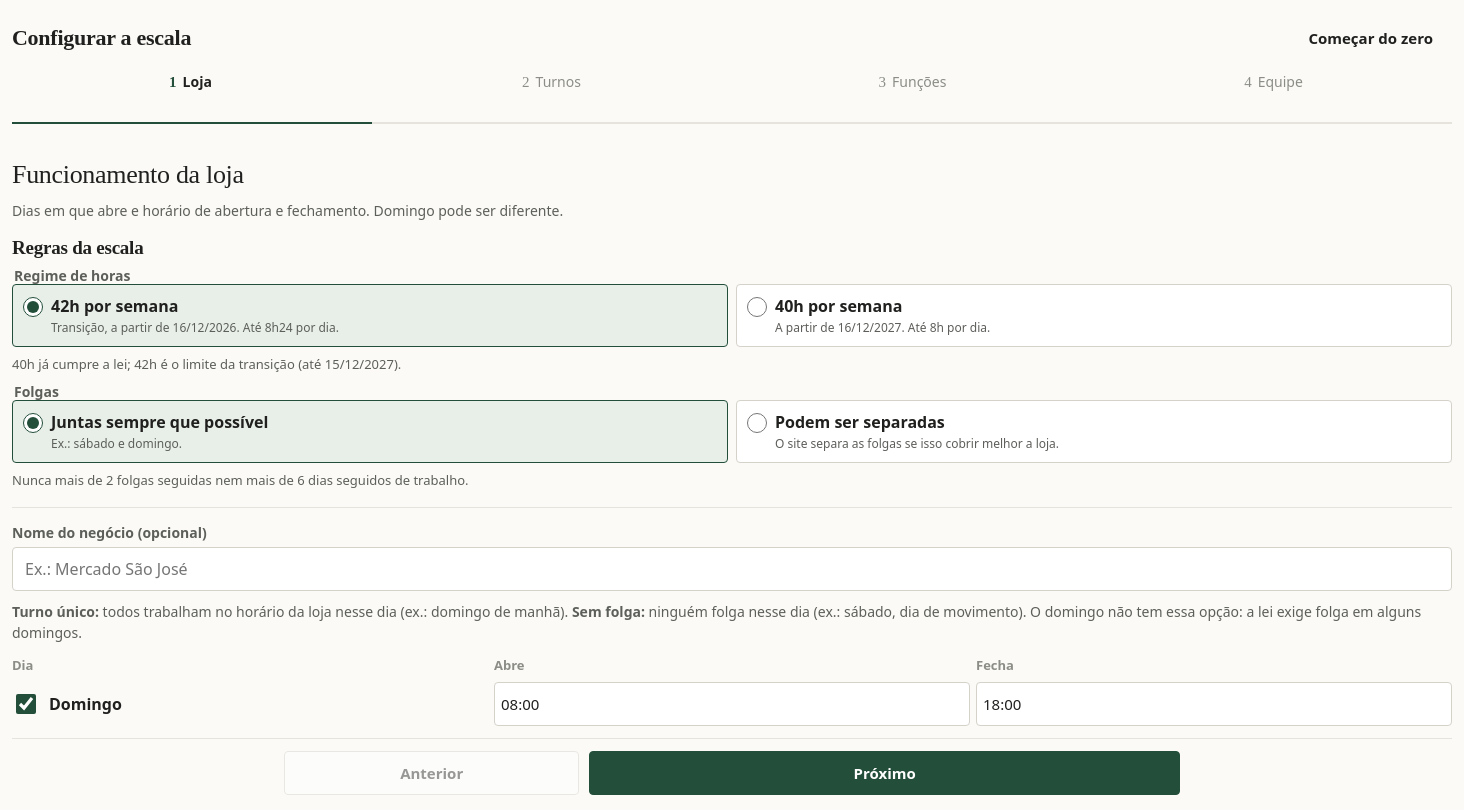
it: SetupWizard › pular pelo indicador de etapas para a etapa com problema e mostra o motivo
Click the button "4 Equipe": (1274, 92) [1095,70,1452,114]
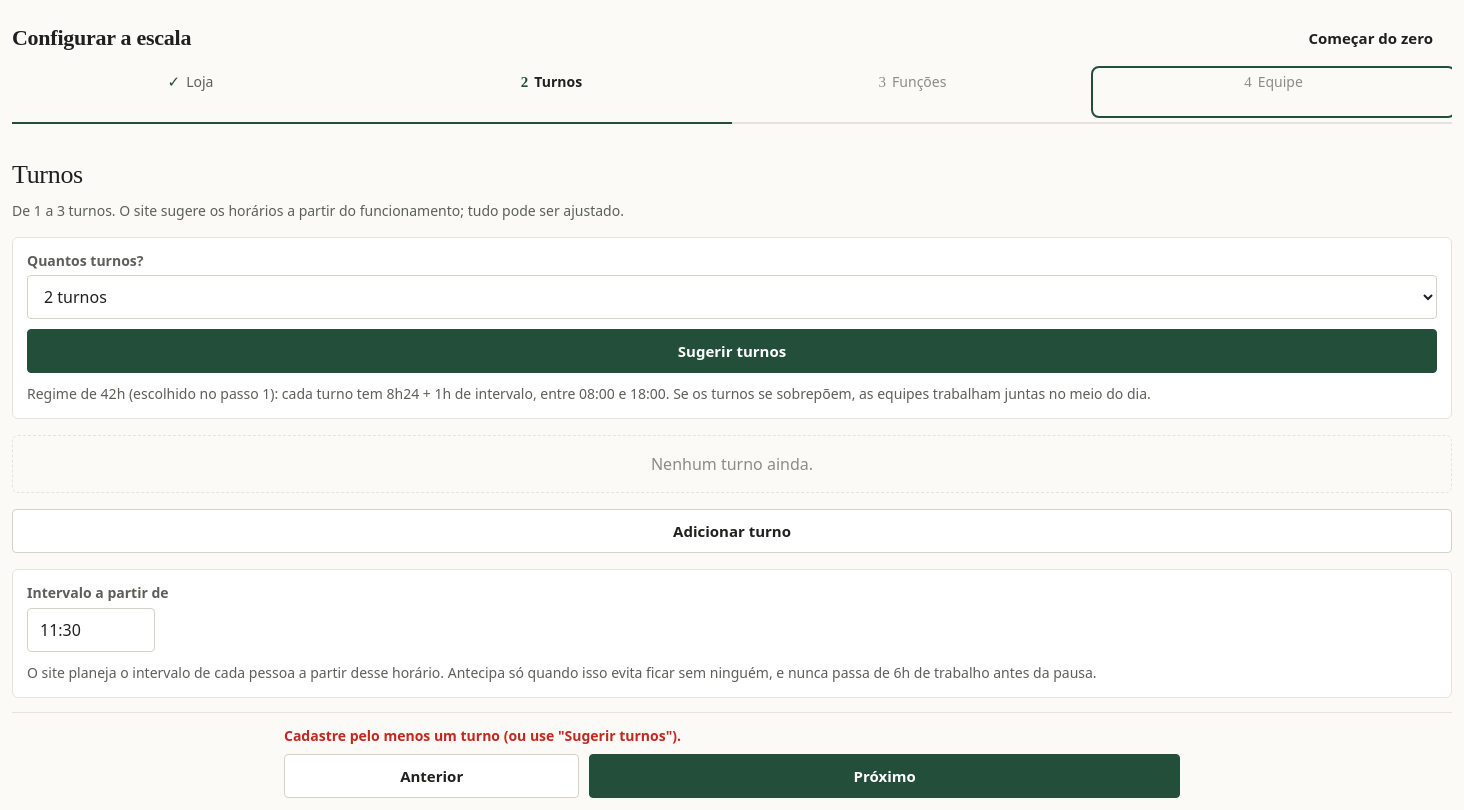
Result: the heading "Turnos" is shown at [12,160,83,189]
Result: the message shows "Cadastre pelo menos um turno" at [284,726,681,745]
